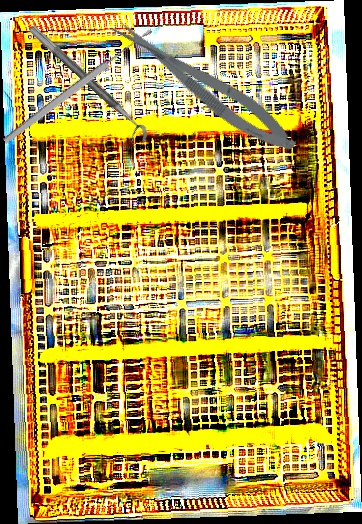Fixation Ring: (18, 23, 154, 152)
Micro Scissor: (106, 6, 303, 163)
Surgical Spoon: (1, 26, 155, 146)
